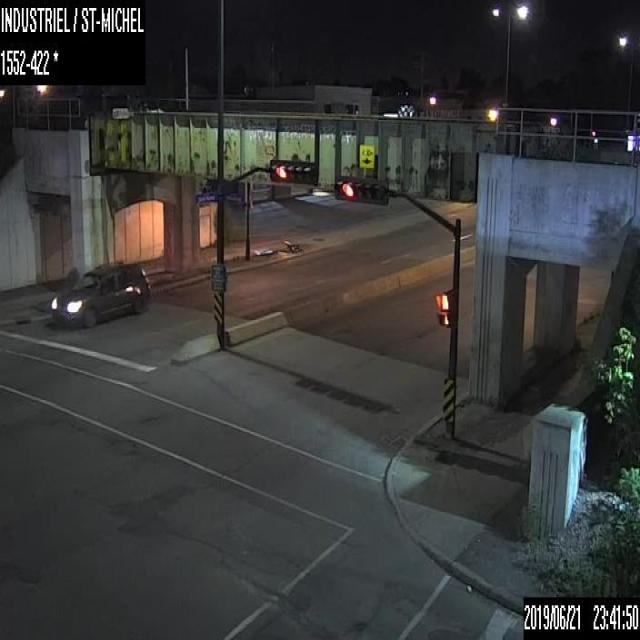vehicle: (49, 260, 152, 328)
